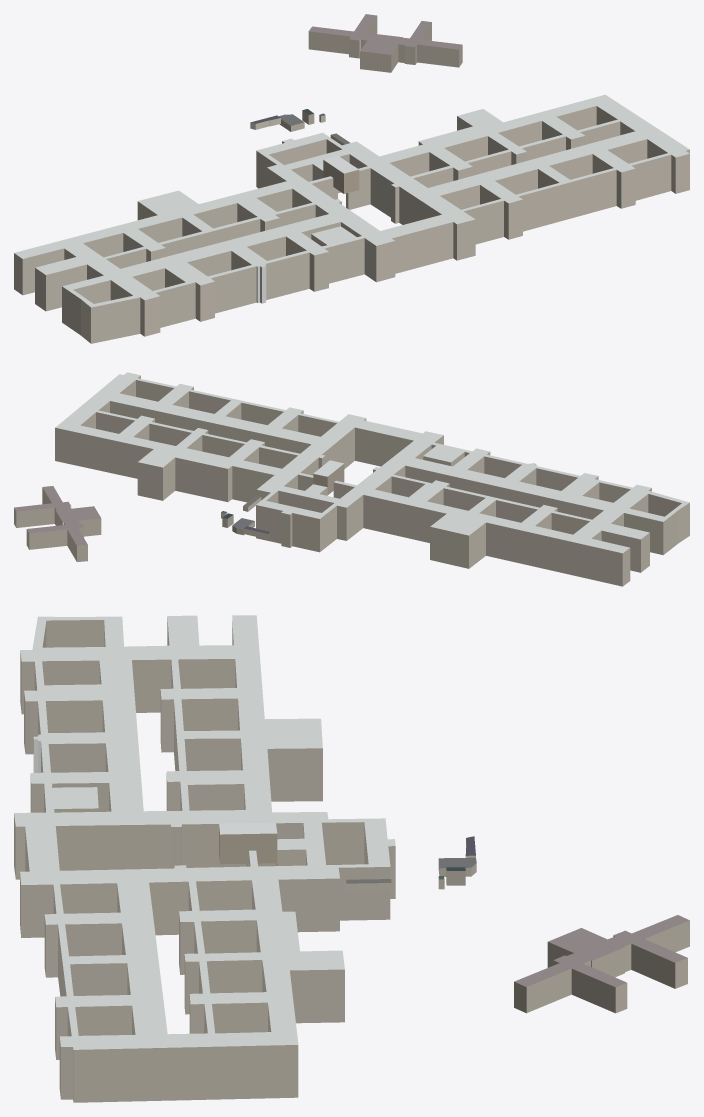
The picture shows the model from 3 angles, top to bottom: view 1: azimuth 30°, elevation 25°; view 2: azimuth 150°, elevation 25°; view 3: azimuth 270°, elevation 25°; orthographic projection. The views are drawn at different scales.
Visible parts, largest first — view 1: tuile; view 2: tuile; view 3: tuile.
Part boxes in pixels (x1,y1,x2,y2): tuile: (14, 14, 689, 343); tuile: (14, 372, 689, 586); tuile: (14, 615, 689, 1102).
Size of the model in its own units: 461 by 34.31 by 303.
